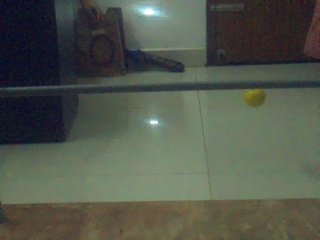ball: (243, 89, 265, 106)
